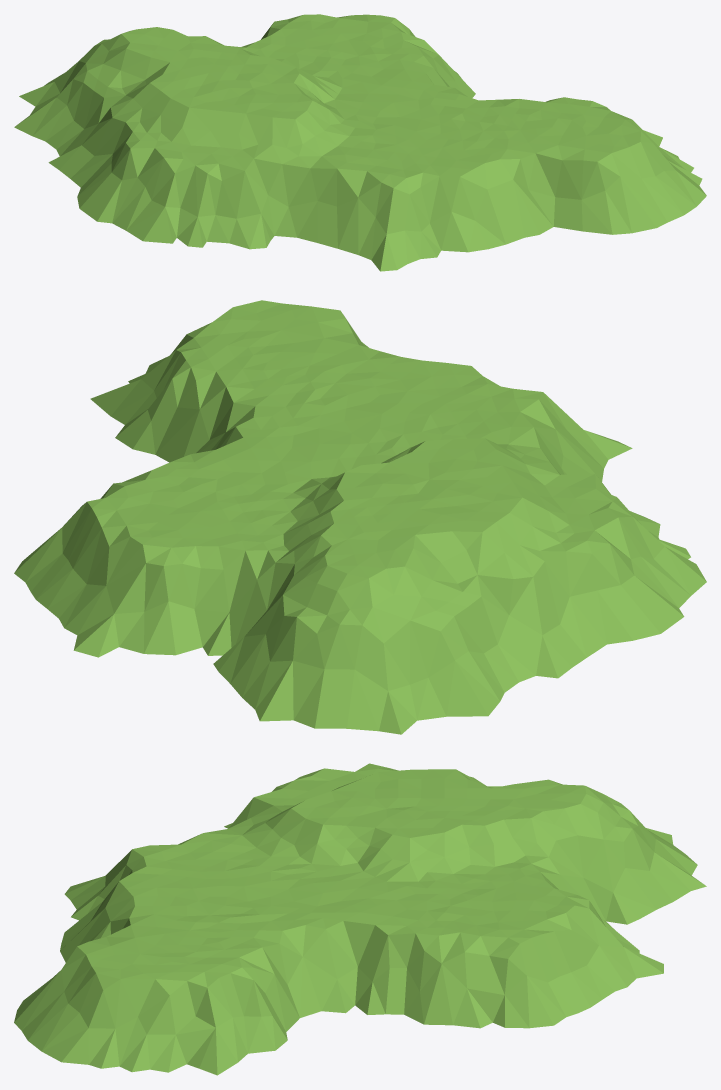
Rendered from MT_Island_L_b_10_LOD.fbx.
3 renders of one model, top to bottom at view 1: azimuth 30°, elevation 25°; view 2: azimuth 150°, elevation 25°; view 3: azimuth 270°, elevation 25°, orthographic. The views are drawn at different scales.
Parts seen in each view (by area): view 1: MT_Island_L_b_10_LOD0; view 2: MT_Island_L_b_10_LOD0; view 3: MT_Island_L_b_10_LOD0.
Boxes of the visible parts, bbox=[...] form: MT_Island_L_b_10_LOD0: bbox=[14, 14, 706, 271]; MT_Island_L_b_10_LOD0: bbox=[14, 300, 706, 734]; MT_Island_L_b_10_LOD0: bbox=[14, 763, 706, 1075].
Size of what is drawn, in the model's own units: 8883 by 1288 by 9358.
